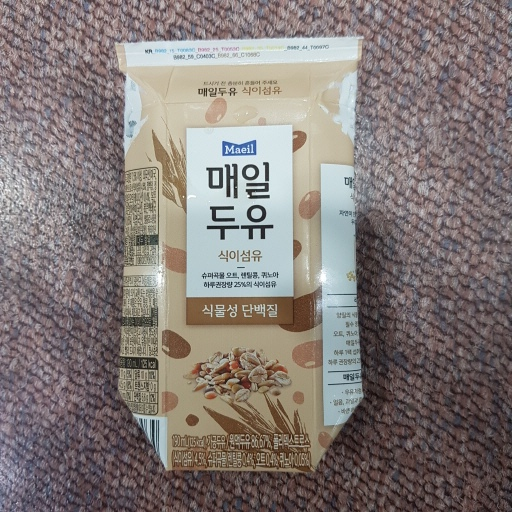Paper_0: (105, 34, 375, 477)
